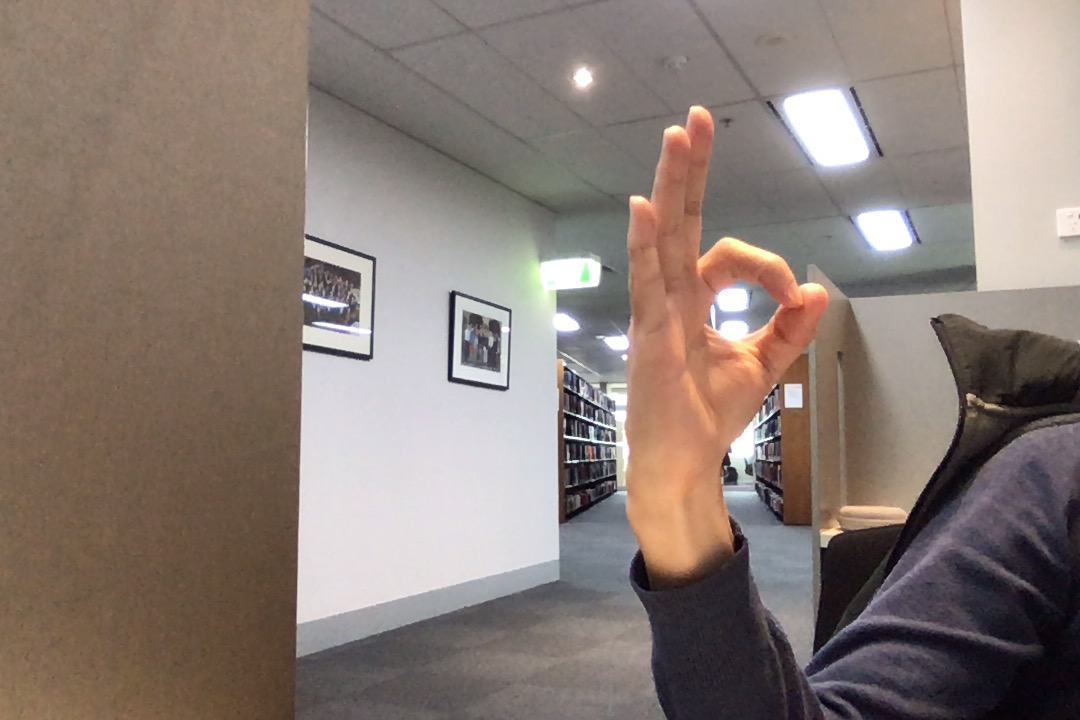oksign: (611, 92, 836, 489)
